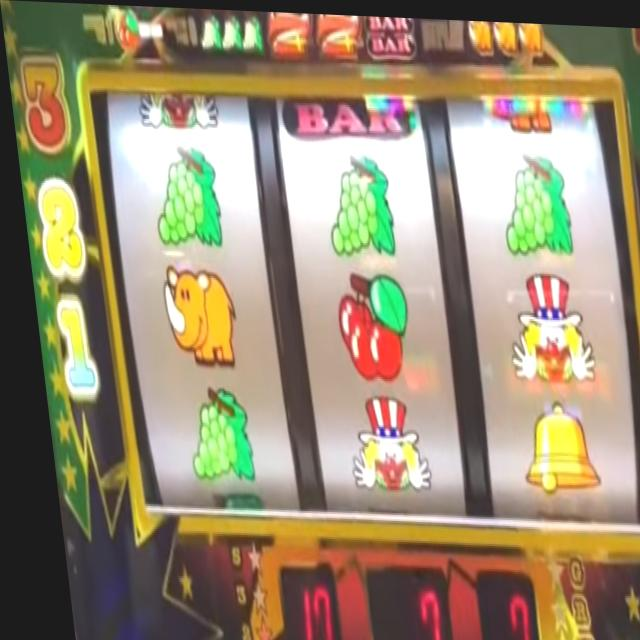bar: (278, 94, 415, 134), (363, 13, 417, 58)
bell: (505, 394, 593, 495)
cherry: (325, 270, 408, 381), (114, 7, 143, 54)
clown: (496, 267, 591, 389), (332, 390, 422, 492), (134, 90, 219, 133)
display: (88, 72, 640, 522)
elephant: (152, 259, 234, 370), (492, 17, 519, 57), (516, 18, 545, 54), (467, 16, 493, 52)
grape: (490, 147, 574, 256), (141, 139, 222, 251), (315, 149, 397, 257), (173, 384, 248, 488), (217, 12, 243, 56), (197, 15, 221, 54), (240, 14, 263, 53)
z: (314, 11, 366, 58), (264, 11, 317, 57)
